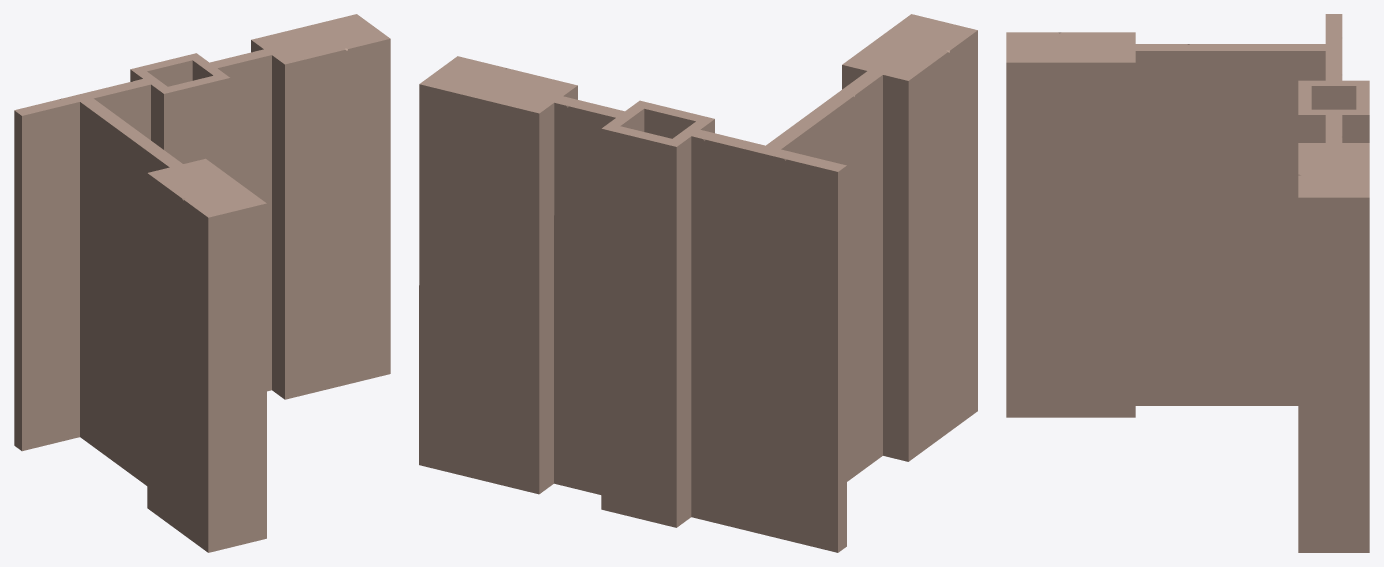
File: Nivel1.fbx
3 renders of one model, left to right at view 1: azimuth 30°, elevation 25°; view 2: azimuth 150°, elevation 25°; view 3: azimuth 270°, elevation 25°, orthographic. The views are drawn at different scales.
Parts seen in each view (by area): view 1: N1-Plataforma, N1-Plataforma.004, N1-Plataforma.001, N1-Plataforma.009, N1-Plataforma.005, N1-Plataforma.003, N1-Plataforma.002; view 2: N1-Plataforma.004, N1-Plataforma, N1-Plataforma.005, N1-Plataforma.009, N1-Plataforma.002, N1-Plataforma.001, N1-Plataforma.003; view 3: N1-Plataforma.001, N1-Plataforma, N1-Plataforma.004, N1-Plataforma.005, N1-Plataforma.009, N1-Plataforma.002, N1-Plataforma.003.
Part boxes in pixels (left/top/right/bottom): N1-Plataforma: left=147, top=158, right=266, bottom=552; N1-Plataforma.004: left=251, top=14, right=390, bottom=399; N1-Plataforma.001: left=73, top=93, right=182, bottom=485; N1-Plataforma.009: left=14, top=96, right=79, bottom=451; N1-Plataforma.005: left=130, top=53, right=230, bottom=176; N1-Plataforma.003: left=209, top=49, right=271, bottom=391; N1-Plataforma.002: left=86, top=79, right=150, bottom=139; N1-Plataforma.004: left=419, top=56, right=577, bottom=494; N1-Plataforma: left=842, top=14, right=977, bottom=461; N1-Plataforma.005: left=601, top=100, right=714, bottom=527; N1-Plataforma.009: left=772, top=149, right=846, bottom=552; N1-Plataforma.002: left=691, top=129, right=765, bottom=532; N1-Plataforma.001: left=756, top=71, right=882, bottom=536; N1-Plataforma.003: left=554, top=96, right=625, bottom=494; N1-Plataforma.001: left=1135, top=44, right=1342, bottom=405; N1-Plataforma: left=1006, top=32, right=1135, bottom=417; N1-Plataforma.004: left=1298, top=143, right=1369, bottom=552; N1-Plataforma.005: left=1298, top=80, right=1369, bottom=142; N1-Plataforma.009: left=1325, top=14, right=1342, bottom=44; N1-Plataforma.002: left=1325, top=51, right=1342, bottom=80; N1-Plataforma.003: left=1325, top=114, right=1342, bottom=143.
Size of the model in its own units: 7388 by 6652 by 6171.
